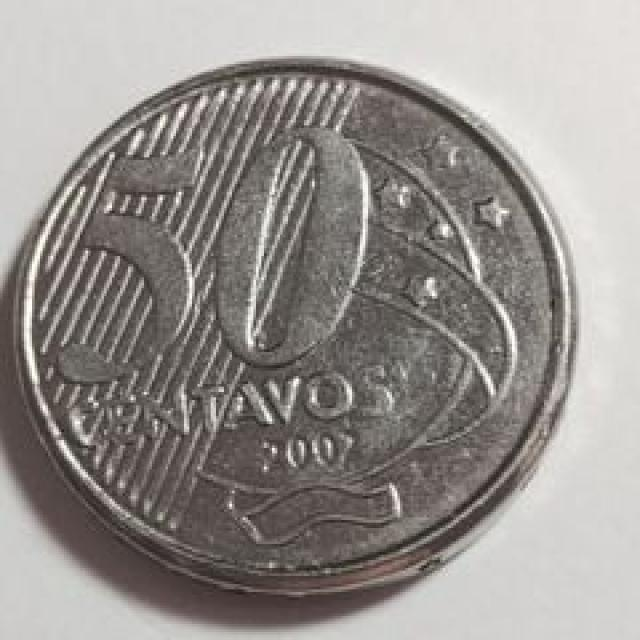50 cent: (11, 53, 588, 602)
